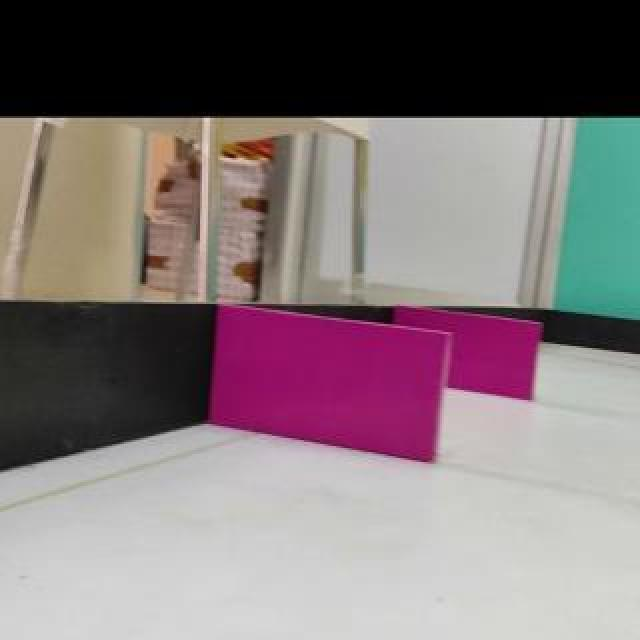xparking: (209, 307, 449, 462), (451, 312, 540, 401)
